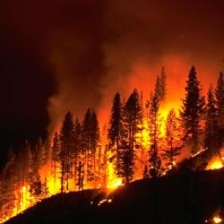fire: (145, 100, 182, 137), (103, 166, 125, 189), (17, 181, 34, 210), (208, 157, 224, 173), (211, 215, 224, 224)
smoke: (39, 6, 179, 85)
